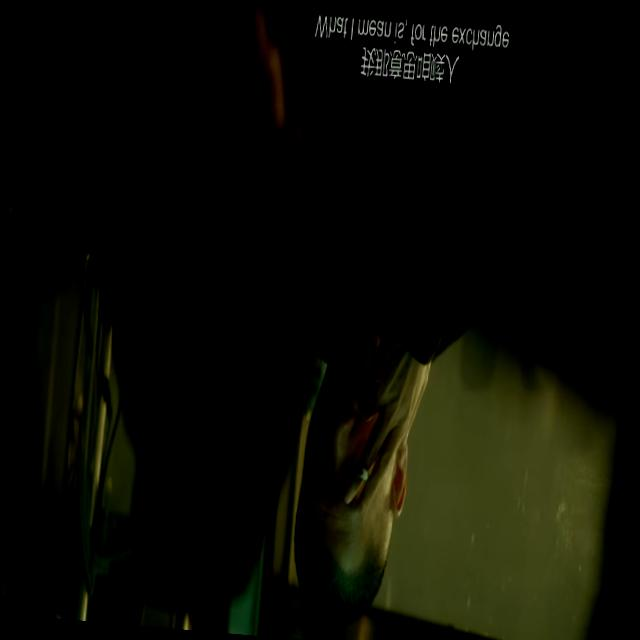cigarette: (356, 461, 372, 486)
